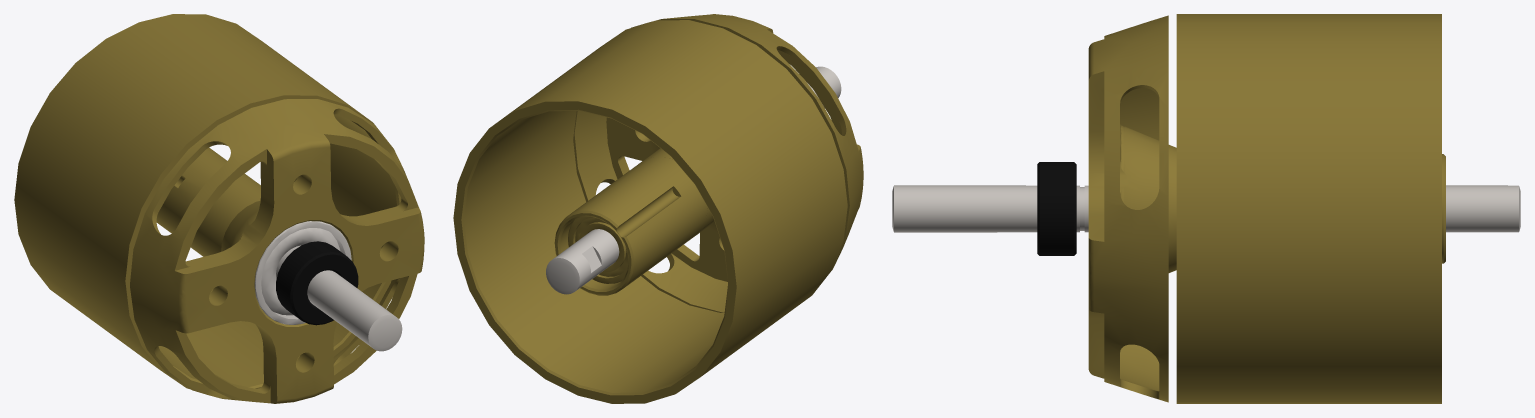
File: rotar.glb
3 views of the same model, side by side, from view 1: azimuth 30°, elevation 25°; view 2: azimuth 150°, elevation 25°; view 3: azimuth 270°, elevation 25° (orthographic). The views are drawn at different scales.
Visible parts, largest first — view 1: 4130+¬+ß; view 2: 4130+¬+ß; view 3: 4130+¬+ß.
Part boxes in pixels (x1=…): 4130+¬+ß: x1=14, y1=14, x2=424, y2=403; 4130+¬+ß: x1=453, y1=14, x2=863, y2=403; 4130+¬+ß: x1=892, y1=14, x2=1520, y2=403.
Bounding box in the file's own units: 0.0498 × 0.0494 × 0.08.
